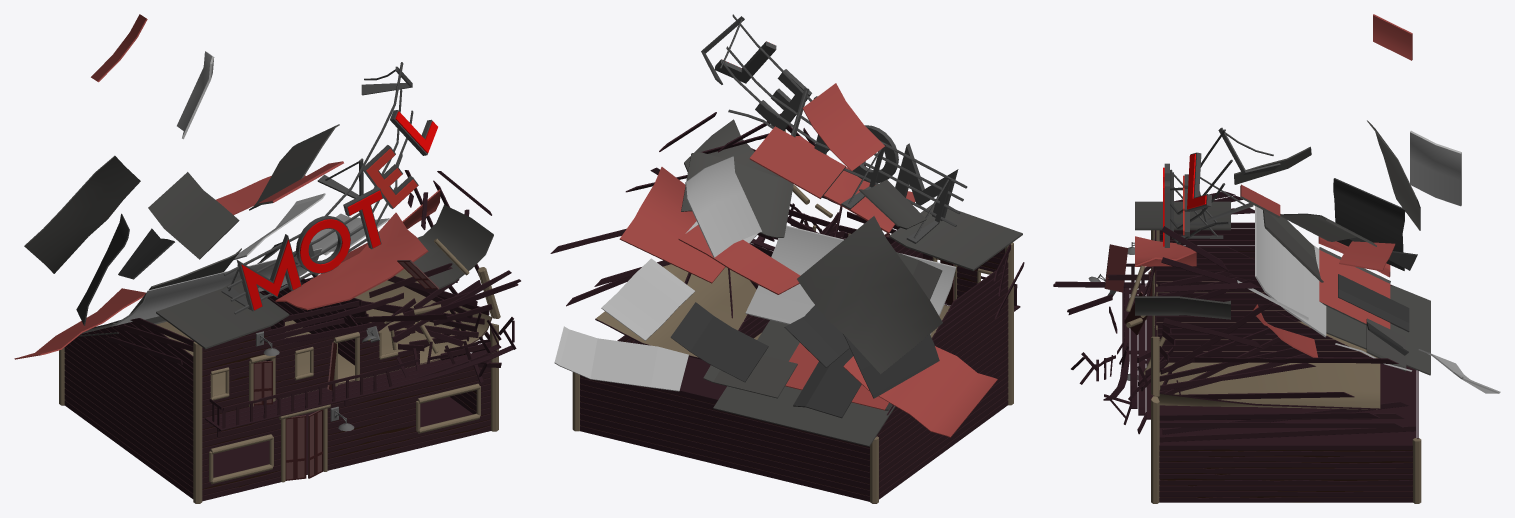
The model's file is Motel-M00A.fbx.
3 views of the same model, side by side, from view 1: azimuth 30°, elevation 25°; view 2: azimuth 150°, elevation 25°; view 3: azimuth 270°, elevation 25° (orthographic). The views are drawn at different scales.
Parts seen in each view (by area): view 1: Motel-M00A, Debris-M02A, Debris-M01A, Debris-M03A, Debris-M00A, Door2, E, Door1, SignLetter-M00C; view 2: Motel-M00A, Debris-M02A, Debris-M03A, Debris-M01A, Debris-M00A, SignLetter-M00C; view 3: Motel-M00A, Debris-M01A, Debris-M03A, Debris-M02A, Debris-M00A, SignLetter-M00C.
Part boxes in pixels (bbox=[...]): Motel-M00A: bbox=[59, 62, 513, 503]; Debris-M02A: bbox=[24, 124, 511, 363]; Debris-M01A: bbox=[76, 14, 520, 377]; Debris-M03A: bbox=[14, 189, 489, 370]; Debris-M00A: bbox=[177, 51, 516, 349]; Door2: bbox=[285, 415, 306, 480]; E: bbox=[366, 148, 417, 207]; Door1: bbox=[308, 409, 323, 478]; SignLetter-M00C: bbox=[390, 110, 437, 155]; Motel-M00A: bbox=[572, 14, 1022, 503]; Debris-M02A: bbox=[601, 119, 942, 374]; Debris-M03A: bbox=[566, 136, 1024, 437]; Debris-M01A: bbox=[550, 83, 939, 398]; Debris-M00A: bbox=[659, 112, 838, 267]; SignLetter-M00C: bbox=[715, 41, 776, 83]; Motel-M00A: bbox=[1103, 127, 1430, 503]; Debris-M01A: bbox=[1067, 14, 1500, 400]; Debris-M03A: bbox=[1119, 208, 1417, 442]; Debris-M02A: bbox=[1053, 120, 1420, 392]; Debris-M00A: bbox=[1071, 130, 1461, 396]; SignLetter-M00C: bbox=[1187, 152, 1211, 211].
Bounding box in the file's own units: 2064 × 1883 × 2027.
